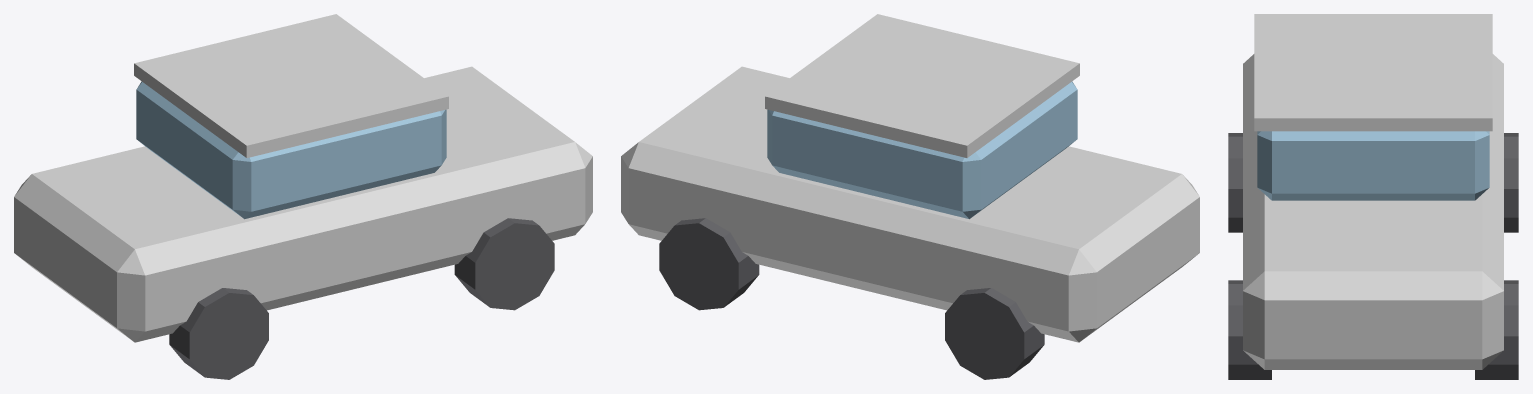
The model's file is Car.fbx.
The picture shows the model from 3 angles, left to right: view 1: azimuth 30°, elevation 25°; view 2: azimuth 150°, elevation 25°; view 3: azimuth 270°, elevation 25°; orthographic projection. The views are drawn at different scales.
Parts seen in each view (by area): view 1: Car; view 2: Car; view 3: Car.
Part boxes in pixels (left/top/right/bottom): Car: left=14, top=14, right=592, bottom=379; Car: left=621, top=14, right=1199, bottom=379; Car: left=1228, top=14, right=1518, bottom=379.
Bounding box in the file's own units: 0.4 × 0.175 × 0.2.
